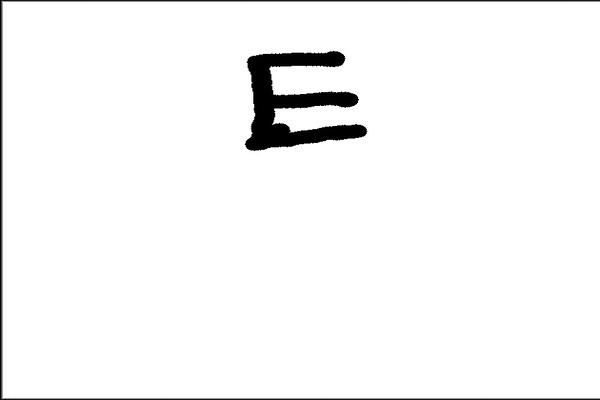E: (240, 47, 372, 155)
